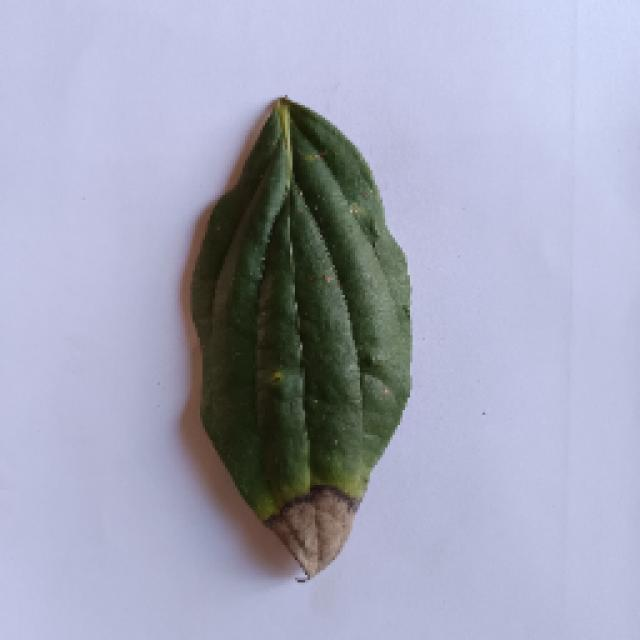footrot: (180, 92, 418, 582)
